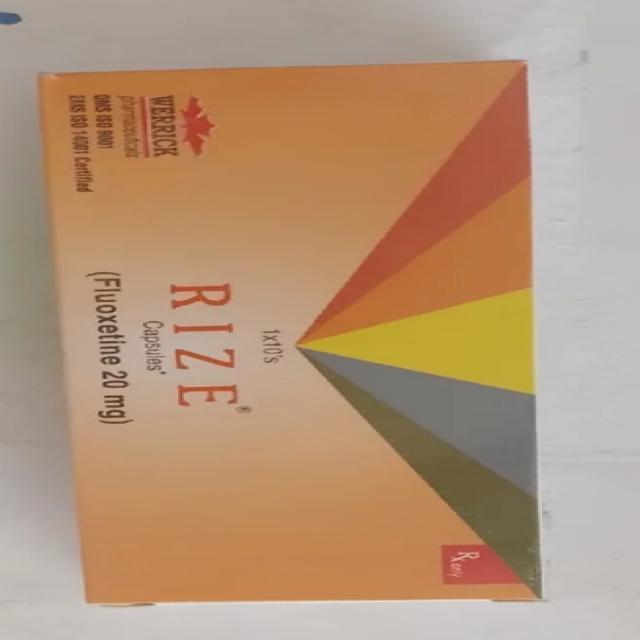drug-name: (163, 273, 255, 418)
